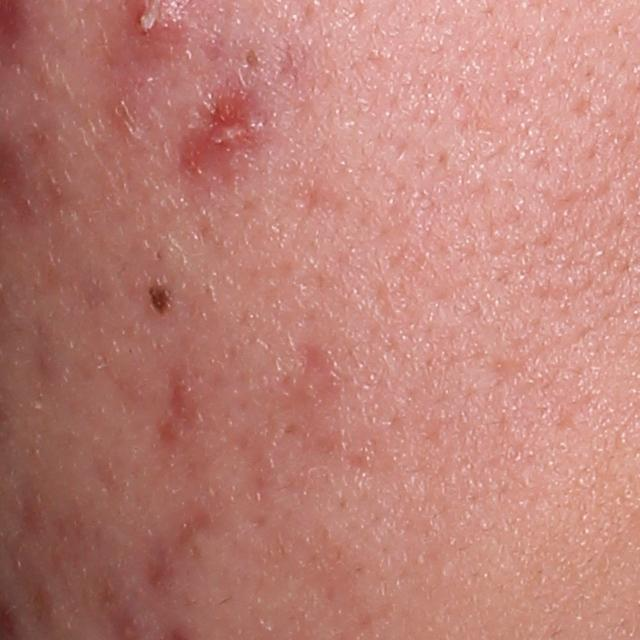nevus: (142, 278, 175, 317)
